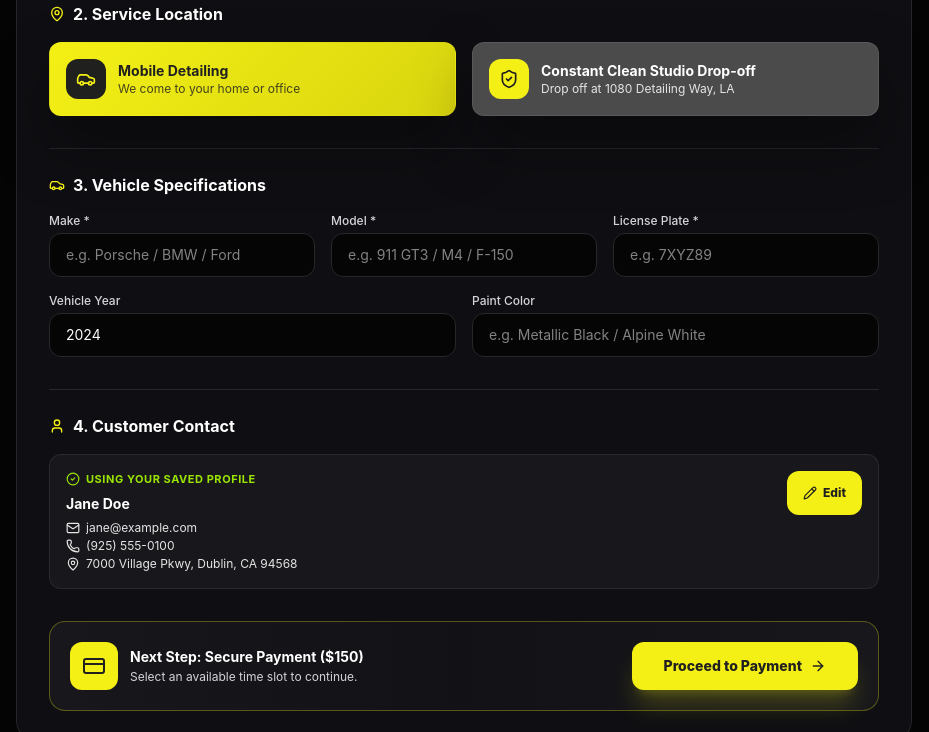
Test: BookingForm › pre-fills from the saved profile with an Edit option
(page scrolled)
Check: the text "Using your saved profile" is shown, box [66, 472, 256, 486]
Check: the field labelled "Full Name *" is not shown
Click the button "Edit" at point(824, 493), box [787, 471, 862, 515]
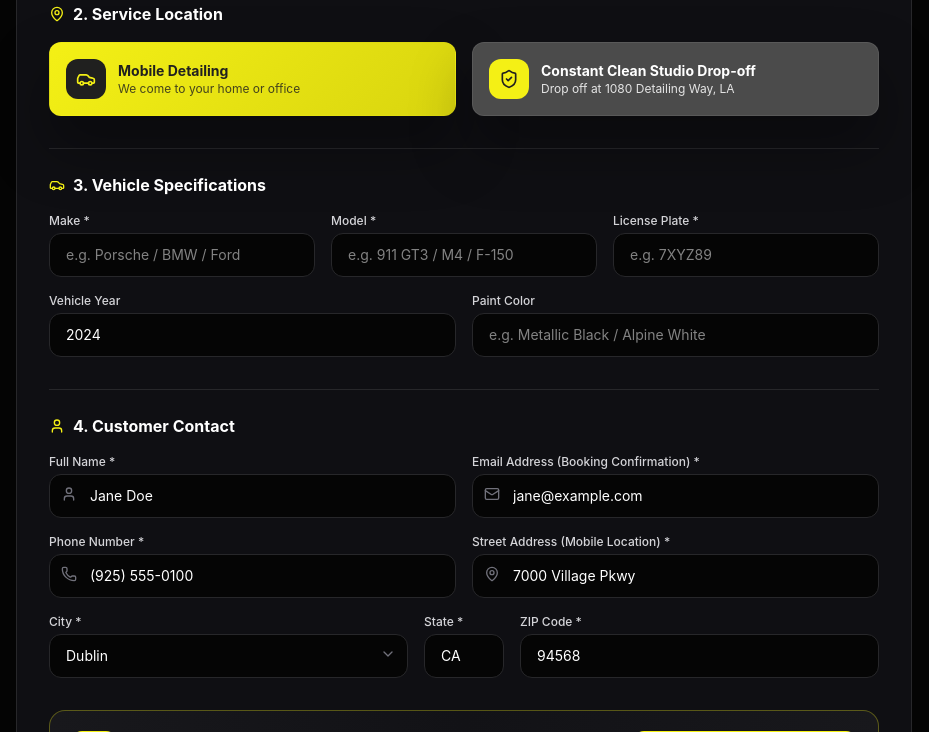
Check: the field labelled "Full Name *" holds "Jane Doe", box [49, 474, 456, 518]
Check: the field labelled "Street Address (Mobile Location) *" holds "7000 Village Pkwy", box [472, 554, 879, 598]
Check: the field labelled "ZIP Code *" holds "94568", box [520, 634, 879, 678]
